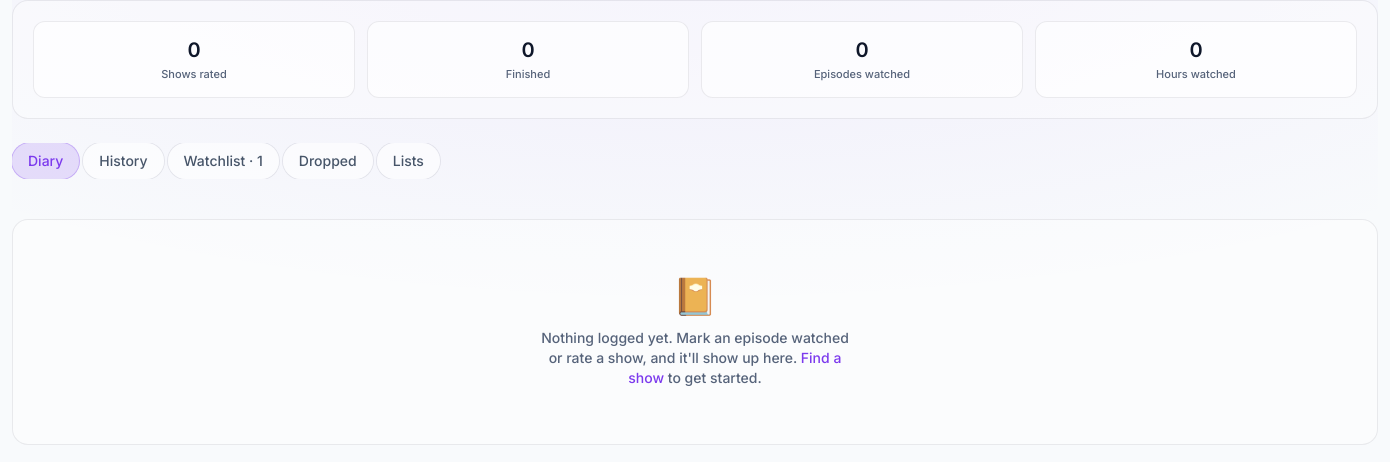
ProfileActivity › switches to the Watchlist tab and renders watchlist items
This screenshot has width=1390, height=462.
Step 1. Click the button "Watchlist · 1" → (223, 160), box [168, 142, 279, 178]
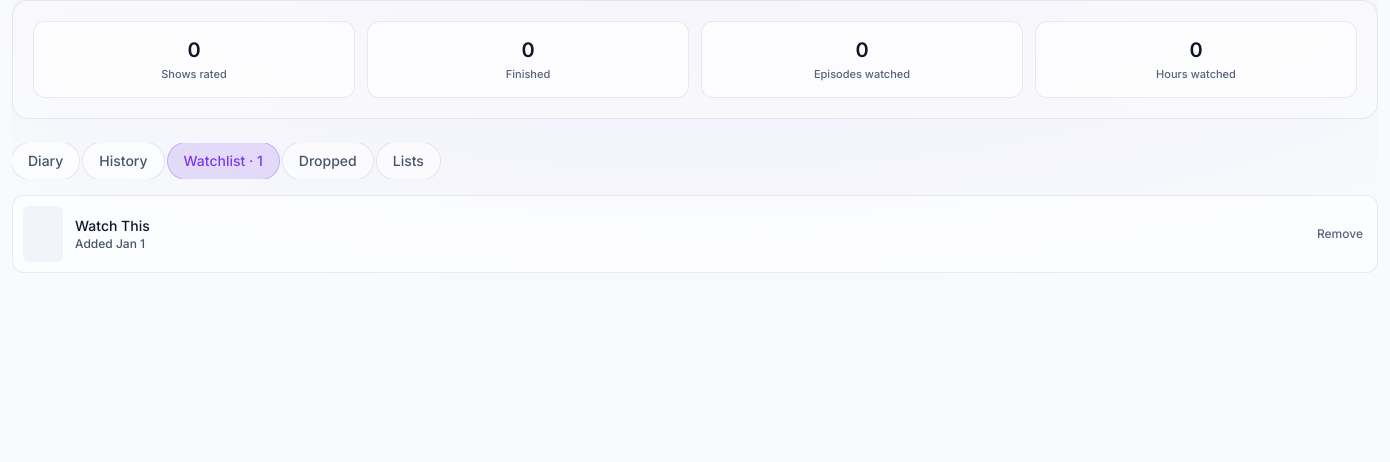
Now the text "Watch This" is shown, box [75, 216, 150, 234]
